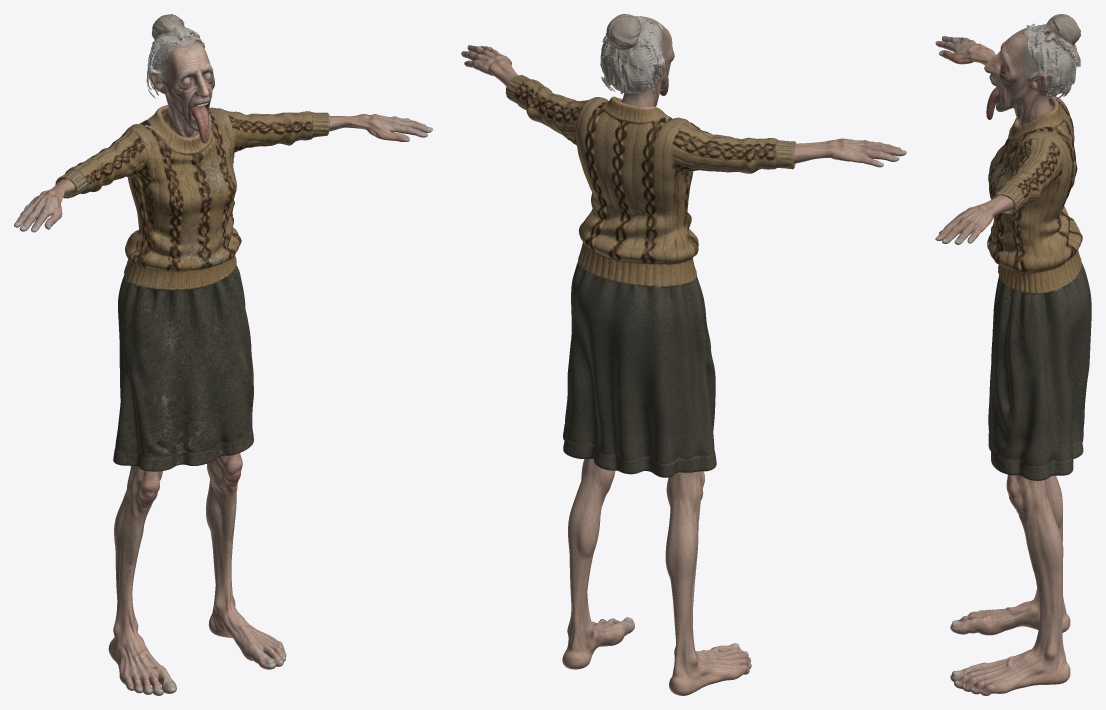
The model's file is Flat10Scraper.fbx.
The picture shows the model from 3 angles, left to right: view 1: azimuth 30°, elevation 25°; view 2: azimuth 150°, elevation 25°; view 3: azimuth 270°, elevation 25°; orthographic projection. The views are drawn at different scales.
Parts seen in each view (by area): view 1: Flat10Scraper; view 2: Flat10Scraper; view 3: Flat10Scraper.
Part boxes in pixels (x1,y1,x2,y2): Flat10Scraper: (14,14,432,695); Flat10Scraper: (461,14,906,695); Flat10Scraper: (935,14,1091,695).
Bounding box in the file's own units: 1.31 × 1.9 × 0.4197.
Materials: 1 (1 with a texture image).
